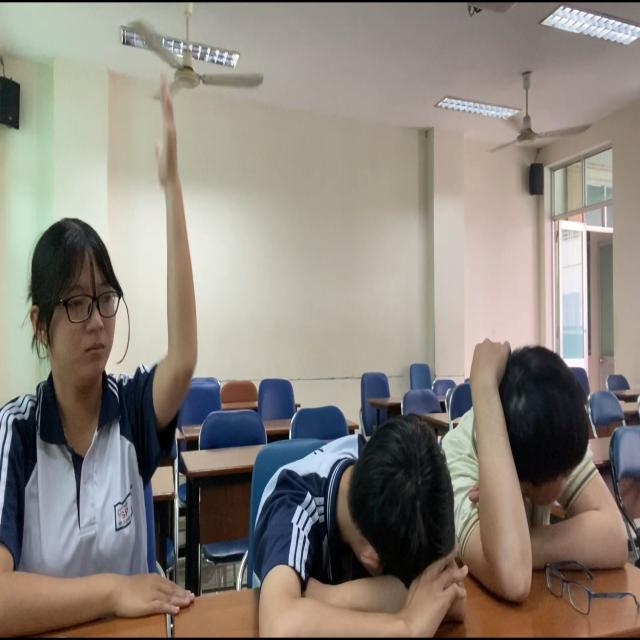raise_hand: (1, 69, 223, 640)
sleep: (238, 393, 463, 632), (454, 325, 631, 583)
